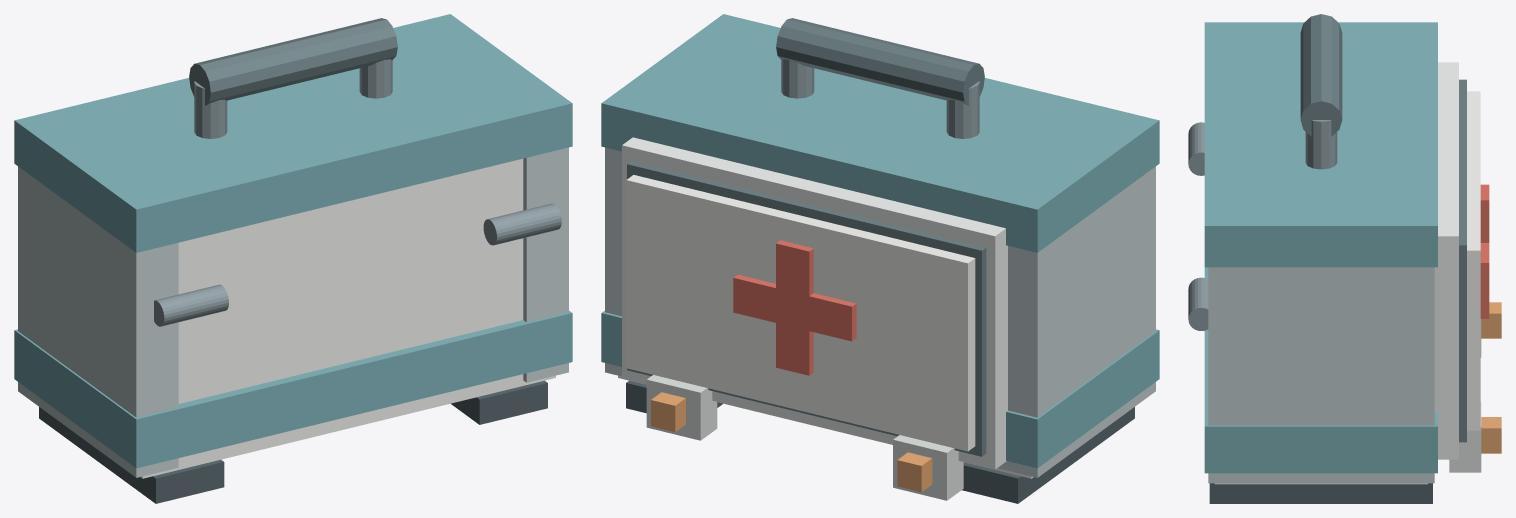
File: first_aid_kit.glb
3 renders of one model, left to right at view 1: azimuth 30°, elevation 25°; view 2: azimuth 150°, elevation 25°; view 3: azimuth 270°, elevation 25°, orthographic. The views are drawn at different scales.
Parts seen in each view (by area): view 1: edge_bumper_teal, case_shell_white_painted, corner_guards_alloy, handle_rubber_gasket, bottom_feet_black_rubber, hinges_dark_alloy, handle_dark_alloy; view 2: edge_bumper_teal, lid_front_white_painted, corner_guards_alloy, lid_white_ceramic, handle_rubber_gasket, medical_cross_safety_red, lid_seal_rubber_gasket, latches_satin_steel, bottom_feet_black_rubber, handle_dark_alloy, latches_orange; view 3: edge_bumper_teal, corner_guards_alloy, lid_white_ceramic, lid_front_white_painted, handle_rubber_gasket, bottom_feet_black_rubber, lid_seal_rubber_gasket, hinges_dark_alloy, handle_dark_alloy, latches_orange, medical_cross_safety_red, latches_satin_steel (+1 smaller).
Boxes of the visible parts, x1,y1,x2,y2 form: edge_bumper_teal: [14, 14, 572, 468]; case_shell_white_painted: [140, 158, 555, 478]; corner_guards_alloy: [18, 147, 568, 477]; handle_rubber_gasket: [189, 18, 397, 105]; bottom_feet_black_rubber: [39, 380, 547, 503]; hinges_dark_alloy: [154, 203, 561, 326]; handle_dark_alloy: [194, 59, 392, 138]; edge_bumper_teal: [601, 14, 1159, 468]; lid_front_white_painted: [626, 175, 975, 451]; corner_guards_alloy: [605, 147, 1155, 477]; lid_white_ceramic: [622, 137, 1007, 469]; handle_rubber_gasket: [776, 18, 984, 105]; medical_cross_safety_red: [733, 240, 856, 375]; lid_seal_rubber_gasket: [627, 161, 986, 456]; latches_satin_steel: [646, 375, 963, 500]; bottom_feet_black_rubber: [626, 380, 1134, 503]; handle_dark_alloy: [781, 59, 979, 138]; latches_orange: [651, 392, 932, 492]; edge_bumper_teal: [1204, 22, 1437, 473]; corner_guards_alloy: [1208, 267, 1434, 483]; lid_white_ceramic: [1434, 62, 1458, 459]; lid_front_white_painted: [1467, 91, 1480, 430]; handle_rubber_gasket: [1300, 14, 1342, 136]; bottom_feet_black_rubber: [1209, 483, 1432, 503]; lid_seal_rubber_gasket: [1459, 79, 1466, 442]; hinges_dark_alloy: [1188, 122, 1208, 330]; handle_dark_alloy: [1305, 120, 1337, 169]; latches_orange: [1481, 302, 1501, 453]; medical_cross_safety_red: [1480, 184, 1489, 318]; latches_satin_steel: [1449, 319, 1481, 472].
Size of the model in its own units: 0.485 by 0.3945 by 0.3155.
